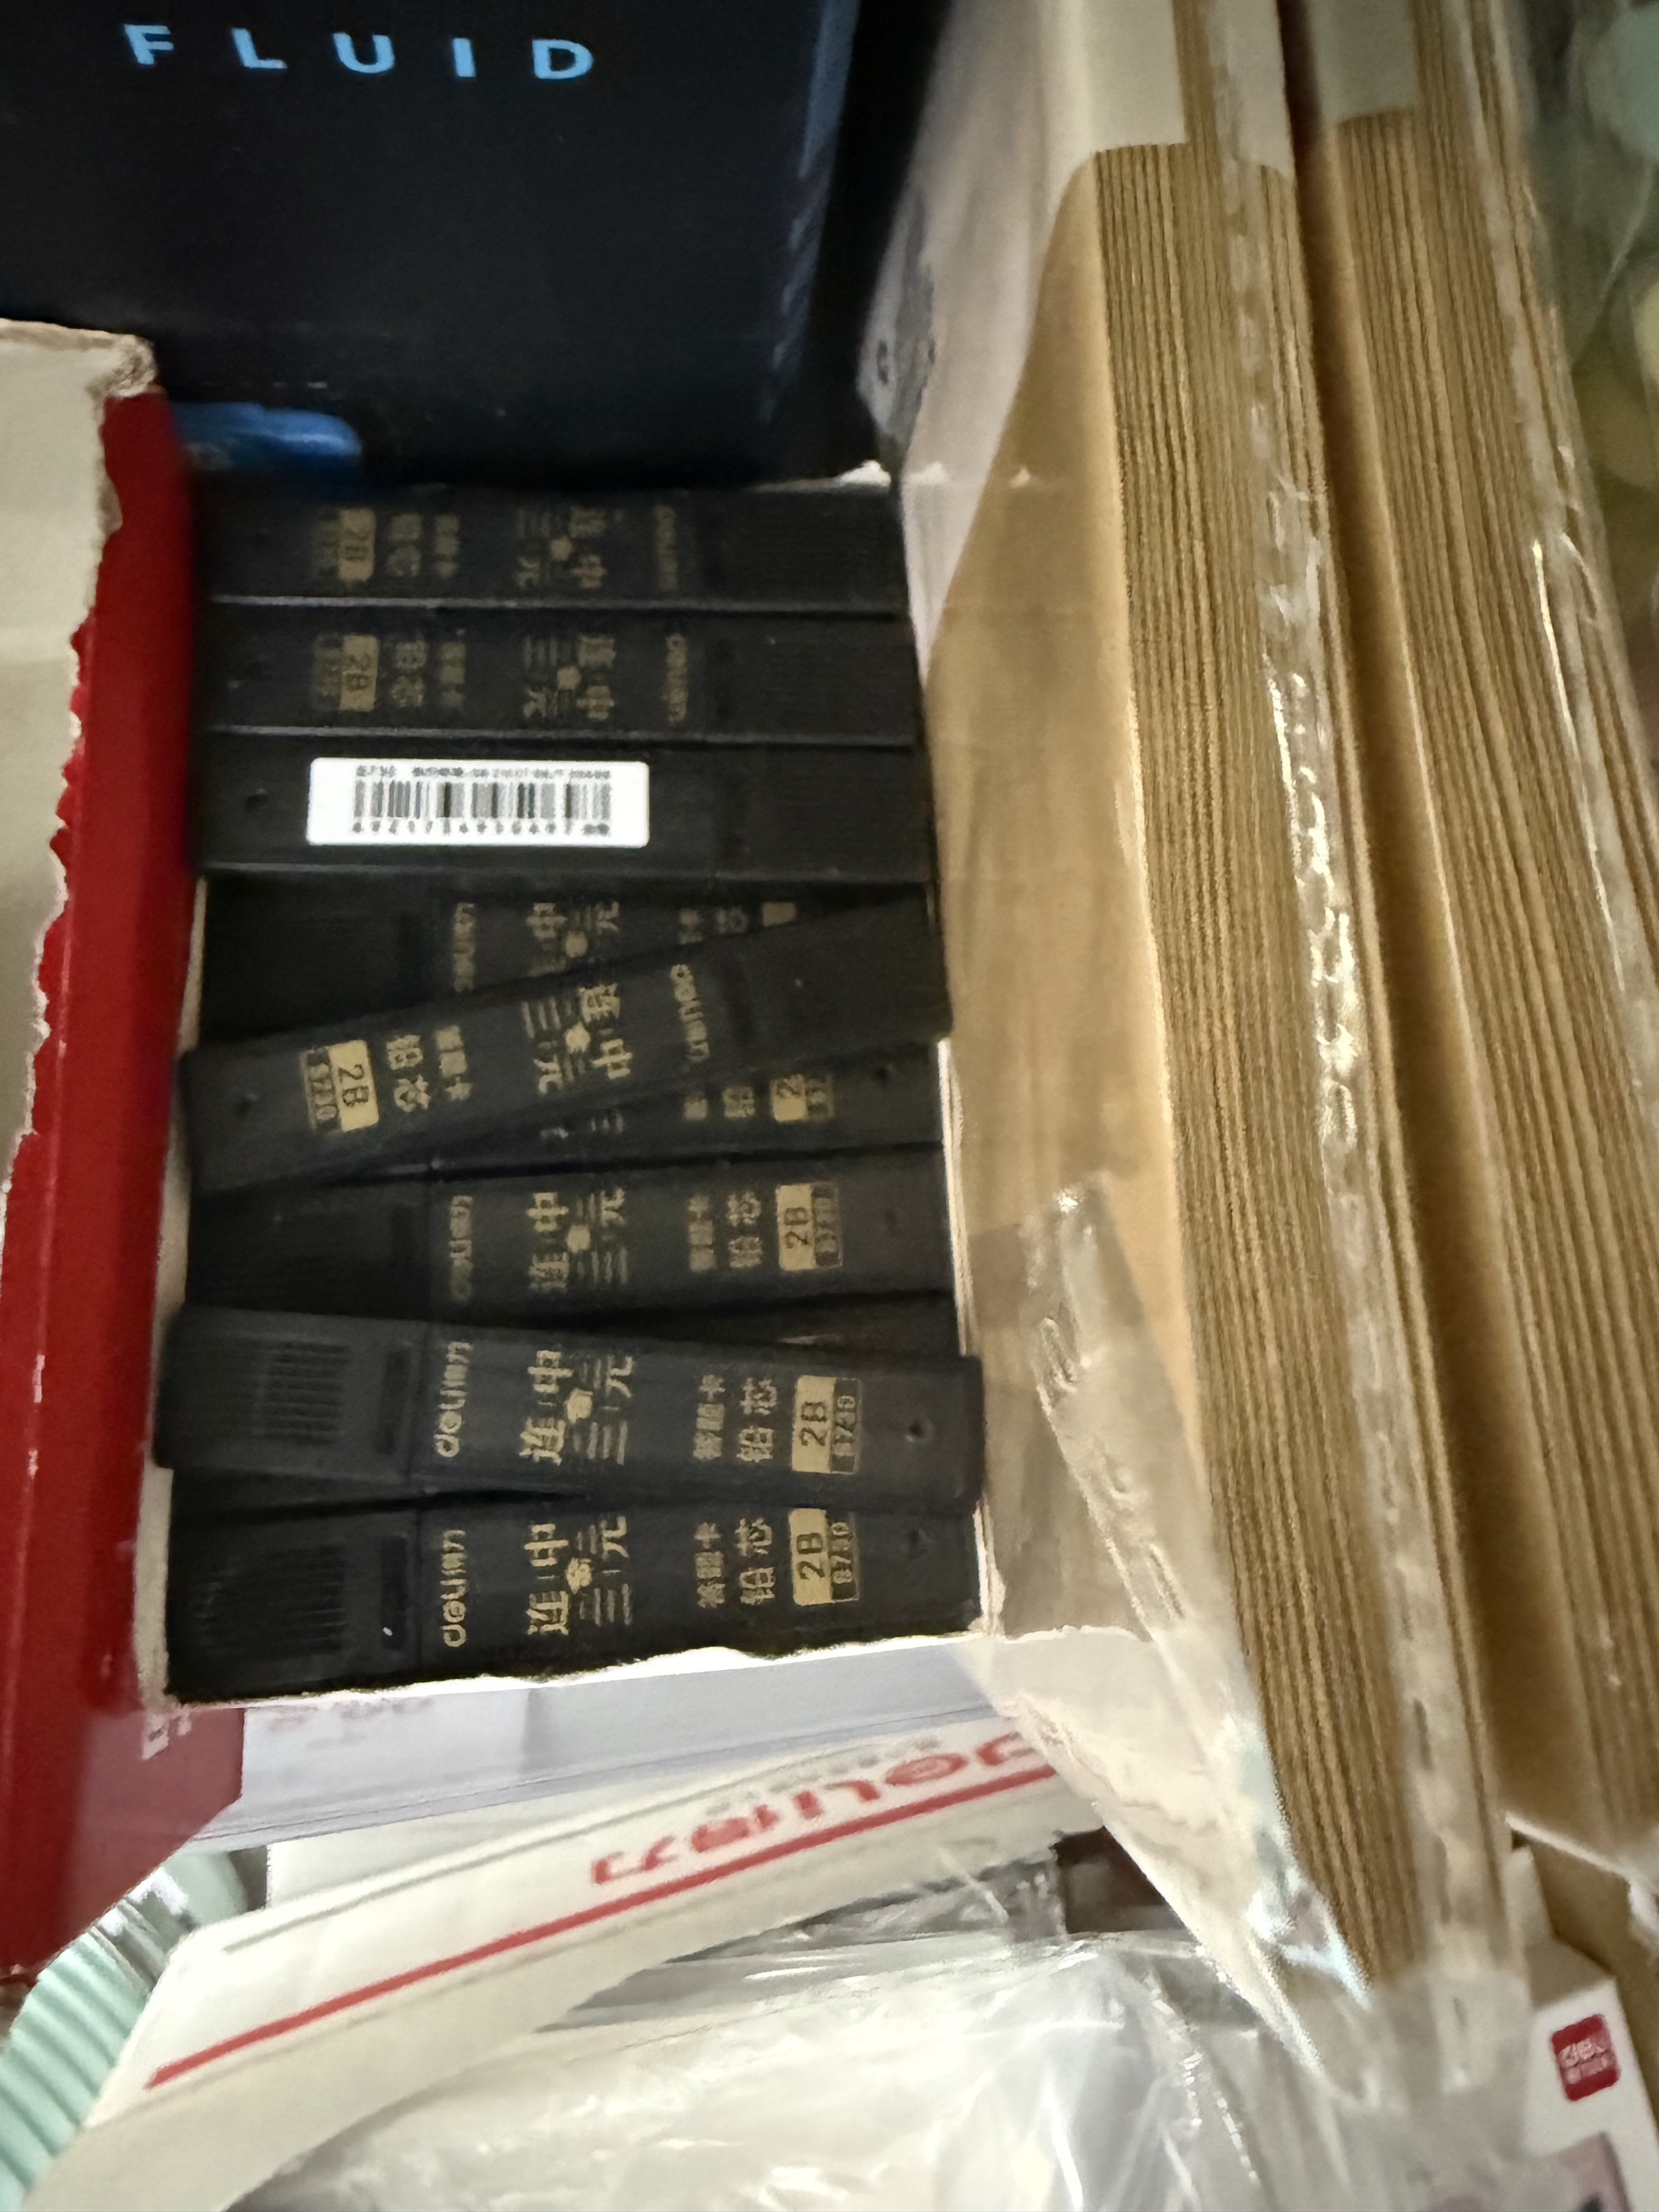bar: (345, 768, 624, 833)
